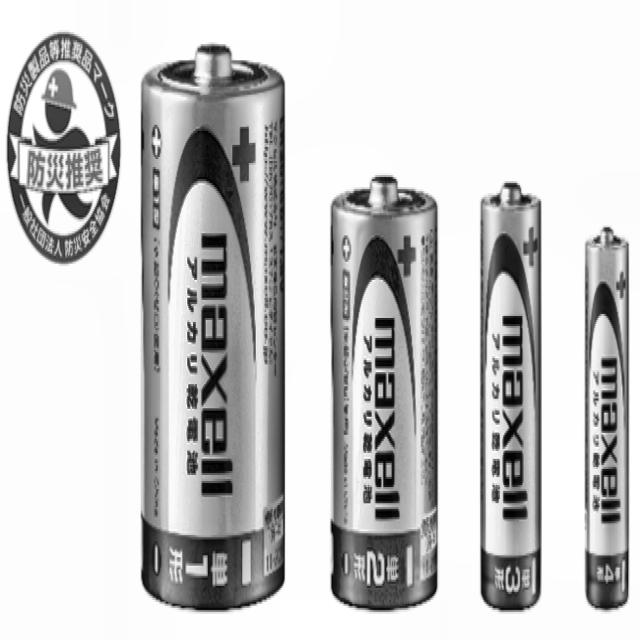drycell: (134, 39, 287, 617), (327, 175, 442, 616), (478, 180, 547, 622), (580, 224, 630, 622)
